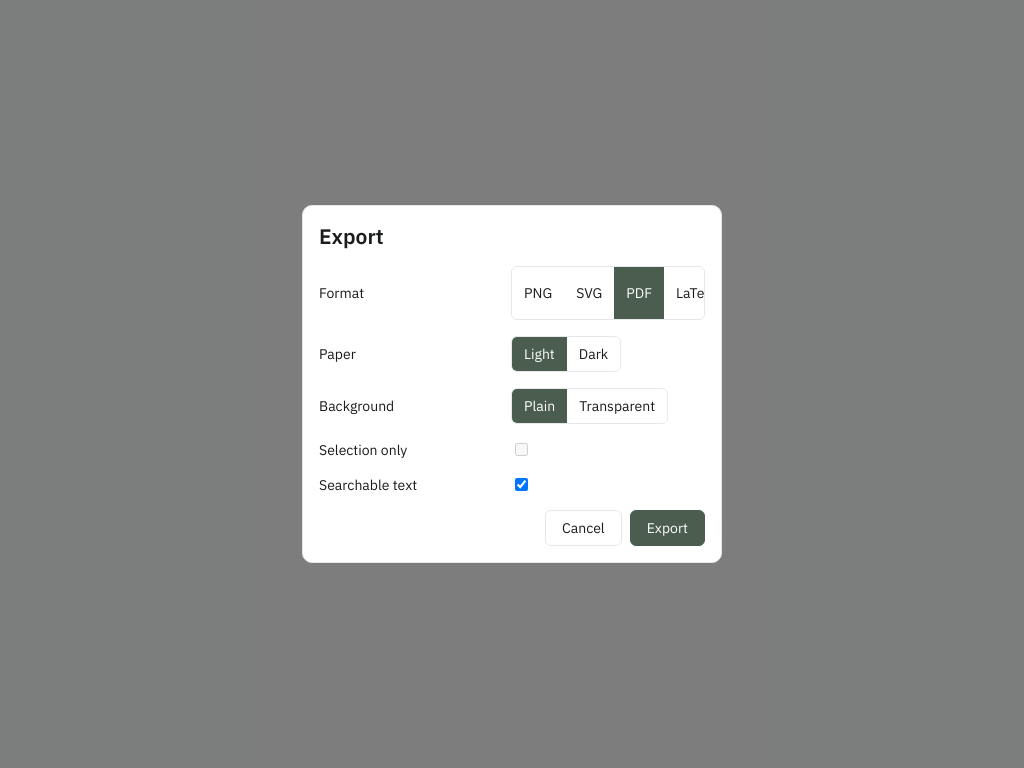
Test: ExportDialog › stays open and shows the error when export fails
Click the button "Export". click: (667, 528)
box: [630,510,705,546]
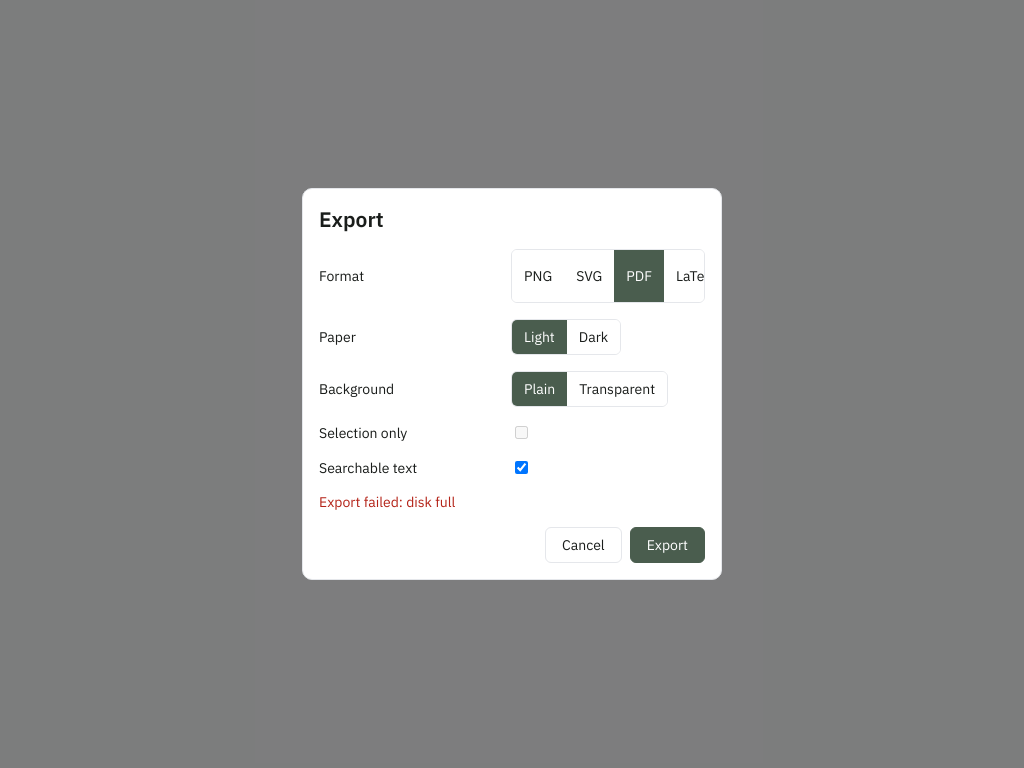
expect the message shows "disk full": met, box [319,493,455,511]
